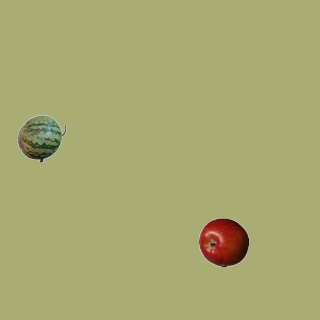Apple Braeburn: (198, 217, 248, 267)
Watermelon: (16, 113, 66, 163)
